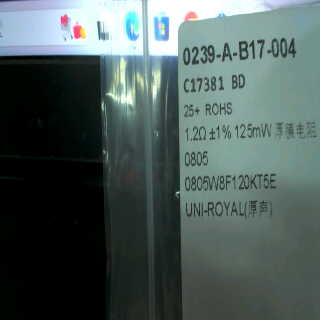1.2R: (183, 125, 209, 175)
